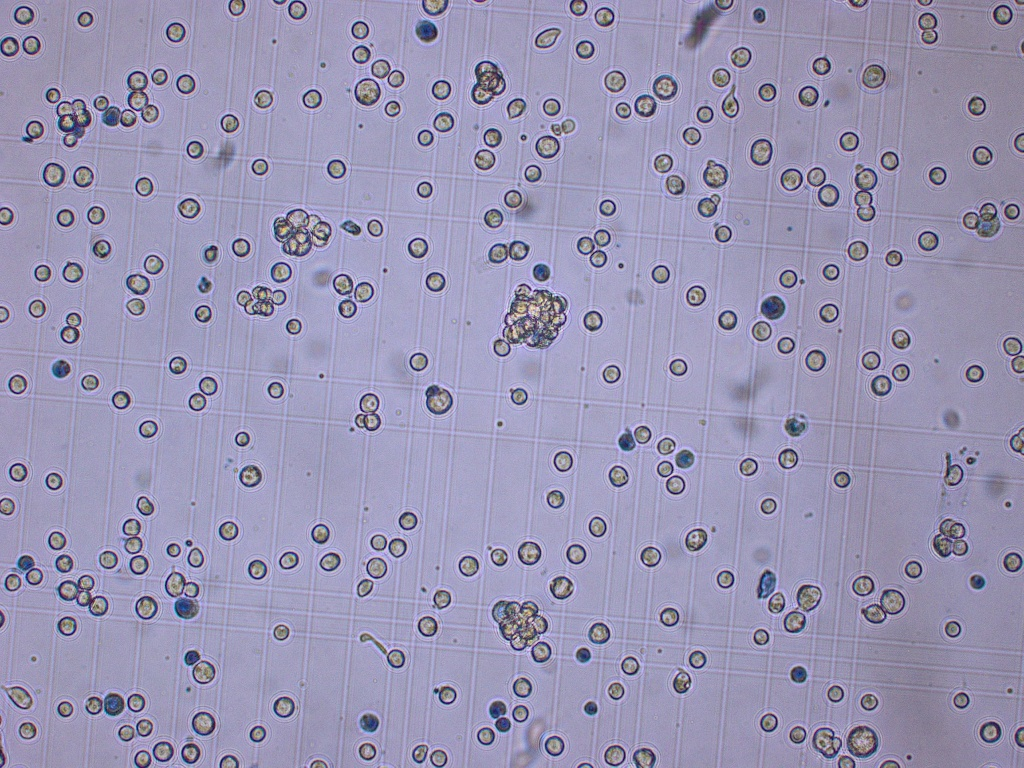Aggregate: (502, 284, 569, 351), (493, 600, 550, 651), (273, 209, 331, 257), (471, 60, 505, 108), (56, 99, 91, 137), (251, 284, 274, 318)
Alive: (847, 725, 878, 758), (812, 727, 840, 759), (355, 79, 381, 104), (652, 76, 678, 100), (797, 584, 820, 611), (881, 588, 905, 613), (704, 163, 729, 187), (750, 140, 773, 165), (426, 390, 450, 413), (549, 576, 574, 598), (7, 686, 32, 708), (43, 162, 64, 188), (536, 135, 559, 158), (135, 596, 157, 620), (685, 527, 706, 552), (519, 542, 541, 565), (193, 661, 216, 683), (192, 712, 215, 734), (239, 465, 262, 487), (125, 274, 150, 294), (863, 65, 885, 87), (780, 169, 803, 190), (818, 184, 839, 207), (536, 28, 560, 48), (805, 350, 826, 372), (530, 641, 552, 662), (856, 169, 878, 190), (605, 70, 626, 92), (609, 465, 629, 488), (165, 572, 185, 595), (588, 622, 609, 643), (784, 612, 806, 632), (992, 4, 1012, 26), (270, 262, 292, 282), (871, 375, 891, 396), (798, 85, 818, 106), (366, 557, 386, 578), (332, 274, 353, 294), (179, 197, 200, 217), (165, 22, 185, 43), (864, 604, 886, 623), (733, 46, 752, 68), (634, 747, 654, 767), (839, 131, 859, 151), (508, 239, 528, 259), (128, 71, 148, 91), (980, 723, 1001, 742), (544, 735, 563, 756), (512, 678, 533, 697), (459, 555, 478, 576), (417, 617, 438, 636), (274, 697, 295, 716), (180, 742, 199, 763), (58, 579, 76, 601), (426, 273, 446, 292), (752, 322, 771, 342), (849, 241, 869, 260), (853, 576, 873, 595), (640, 547, 660, 566), (582, 310, 601, 330), (697, 197, 716, 217), (665, 174, 685, 193), (371, 59, 391, 78), (311, 523, 330, 543), (154, 742, 173, 762), (86, 206, 106, 225), (74, 167, 94, 186), (672, 672, 690, 693), (588, 516, 606, 537), (474, 151, 495, 169), (482, 128, 503, 146), (91, 595, 109, 616), (1, 36, 19, 57), (421, 1, 447, 15), (360, 392, 379, 411), (686, 286, 705, 305), (605, 746, 624, 765), (973, 145, 992, 164), (968, 96, 987, 115), (636, 95, 655, 114), (487, 244, 506, 263), (434, 112, 453, 131), (352, 45, 371, 64), (129, 555, 148, 574), (176, 74, 195, 93), (819, 304, 839, 322), (862, 350, 880, 370), (1003, 337, 1023, 355), (779, 449, 797, 469), (1004, 553, 1022, 573), (567, 545, 585, 565), (484, 209, 504, 227), (355, 281, 373, 301), (302, 89, 322, 107), (253, 90, 273, 108), (62, 264, 82, 282), (287, 1, 307, 19), (721, 96, 738, 117), (320, 554, 341, 571), (934, 536, 951, 557), (892, 329, 910, 348), (920, 231, 938, 250), (966, 364, 984, 383), (740, 458, 759, 476), (554, 452, 573, 470), (546, 489, 564, 508), (437, 685, 456, 703), (880, 152, 898, 171), (813, 57, 831, 76), (507, 98, 525, 117), (432, 81, 451, 99), (399, 511, 417, 530), (389, 538, 407, 557), (9, 463, 28, 481), (232, 238, 251, 256), (221, 114, 239, 133), (409, 238, 426, 258), (279, 553, 299, 570), (364, 413, 382, 431), (652, 264, 670, 282), (779, 270, 797, 288), (892, 363, 910, 381), (760, 714, 778, 732), (667, 476, 685, 494), (807, 167, 825, 185), (713, 69, 731, 87), (351, 21, 369, 39), (248, 560, 266, 578), (49, 532, 67, 550), (111, 390, 129, 408), (61, 326, 79, 344), (92, 240, 110, 258), (14, 6, 32, 24), (142, 104, 160, 122), (409, 353, 426, 372), (328, 159, 345, 178), (717, 311, 736, 328), (768, 593, 785, 612), (661, 607, 678, 626), (689, 650, 706, 669), (621, 657, 640, 674), (576, 237, 595, 254), (655, 154, 672, 173), (575, 42, 594, 59), (492, 339, 511, 356), (85, 695, 102, 714), (18, 721, 37, 738), (219, 522, 238, 539), (127, 299, 146, 316), (144, 255, 163, 272), (9, 375, 26, 394), (26, 119, 43, 138), (946, 465, 962, 485), (127, 92, 147, 108), (670, 358, 688, 375), (905, 560, 922, 578), (512, 704, 529, 722), (634, 426, 651, 444), (433, 589, 450, 607), (388, 650, 406, 667), (478, 727, 495, 745), (857, 203, 875, 220), (918, 12, 936, 29), (758, 83, 776, 100), (596, 8, 613, 26), (524, 165, 542, 182), (504, 190, 522, 207), (357, 579, 374, 597), (100, 550, 117, 568), (139, 419, 157, 436), (169, 356, 186, 374), (358, 743, 377, 759), (45, 472, 64, 488), (199, 377, 218, 393), (136, 178, 152, 197), (120, 108, 136, 127), (412, 744, 427, 764), (590, 251, 607, 268), (598, 199, 615, 216), (928, 167, 945, 184), (683, 128, 700, 145), (388, 70, 405, 87), (137, 720, 154, 737), (58, 617, 75, 634), (186, 140, 203, 157), (779, 336, 795, 354), (833, 471, 851, 487), (718, 571, 734, 589), (954, 691, 970, 709), (134, 750, 150, 768), (55, 555, 73, 571), (657, 460, 672, 479), (963, 210, 978, 229), (220, 754, 240, 768), (603, 366, 619, 383), (790, 726, 806, 743), (608, 683, 625, 699), (492, 548, 508, 565), (1003, 203, 1019, 220), (697, 106, 713, 123), (431, 750, 447, 767), (128, 694, 145, 710), (57, 700, 73, 717), (6, 574, 22, 591), (27, 568, 43, 585), (339, 299, 355, 316), (29, 299, 45, 316), (58, 209, 74, 226), (137, 497, 152, 515), (24, 36, 39, 54), (568, 1, 587, 15), (189, 548, 203, 567), (1011, 355, 1024, 375), (511, 388, 527, 404), (658, 438, 674, 454), (615, 101, 631, 117), (544, 98, 560, 114), (249, 726, 265, 742), (122, 518, 138, 534), (195, 305, 211, 321), (34, 265, 50, 281), (754, 629, 769, 646), (945, 620, 960, 637), (593, 229, 610, 244), (715, 225, 730, 242), (418, 129, 433, 146), (126, 538, 143, 553), (78, 11, 95, 26), (82, 375, 99, 390), (251, 160, 269, 174), (228, 1, 246, 15), (953, 538, 967, 556), (368, 220, 383, 236), (824, 264, 839, 280), (886, 251, 902, 266), (828, 686, 844, 701), (384, 101, 400, 116), (371, 534, 386, 550), (119, 725, 134, 741), (79, 574, 94, 590), (190, 393, 205, 409), (66, 312, 82, 327), (153, 69, 168, 85), (855, 190, 872, 204), (1, 498, 15, 515), (951, 521, 965, 538), (1, 206, 13, 225), (862, 693, 877, 708), (922, 28, 937, 43), (235, 431, 250, 446), (269, 383, 284, 398), (417, 183, 432, 197), (760, 499, 775, 513), (184, 582, 199, 596), (45, 89, 60, 103), (1015, 726, 1024, 749), (1015, 132, 1024, 154), (273, 625, 287, 639), (93, 95, 107, 109), (939, 519, 953, 533), (839, 756, 855, 768), (275, 289, 287, 305), (287, 319, 300, 333), (63, 133, 77, 146), (165, 543, 180, 555), (355, 411, 366, 427), (79, 589, 90, 605), (238, 290, 250, 304), (714, 1, 734, 9), (880, 760, 899, 768), (1, 305, 10, 321), (311, 759, 326, 768)
Dead: (761, 296, 784, 319), (103, 692, 125, 715), (416, 20, 438, 42), (175, 598, 199, 618), (758, 570, 776, 596), (676, 449, 695, 469), (785, 418, 806, 436), (618, 432, 636, 452), (360, 713, 380, 731), (101, 105, 119, 124), (489, 701, 507, 719), (341, 219, 360, 236), (533, 264, 550, 281), (52, 360, 69, 377), (790, 667, 808, 681), (970, 574, 985, 590), (583, 700, 598, 715), (496, 716, 510, 732), (576, 647, 590, 662), (185, 650, 199, 665), (18, 554, 33, 567), (754, 7, 766, 23)
